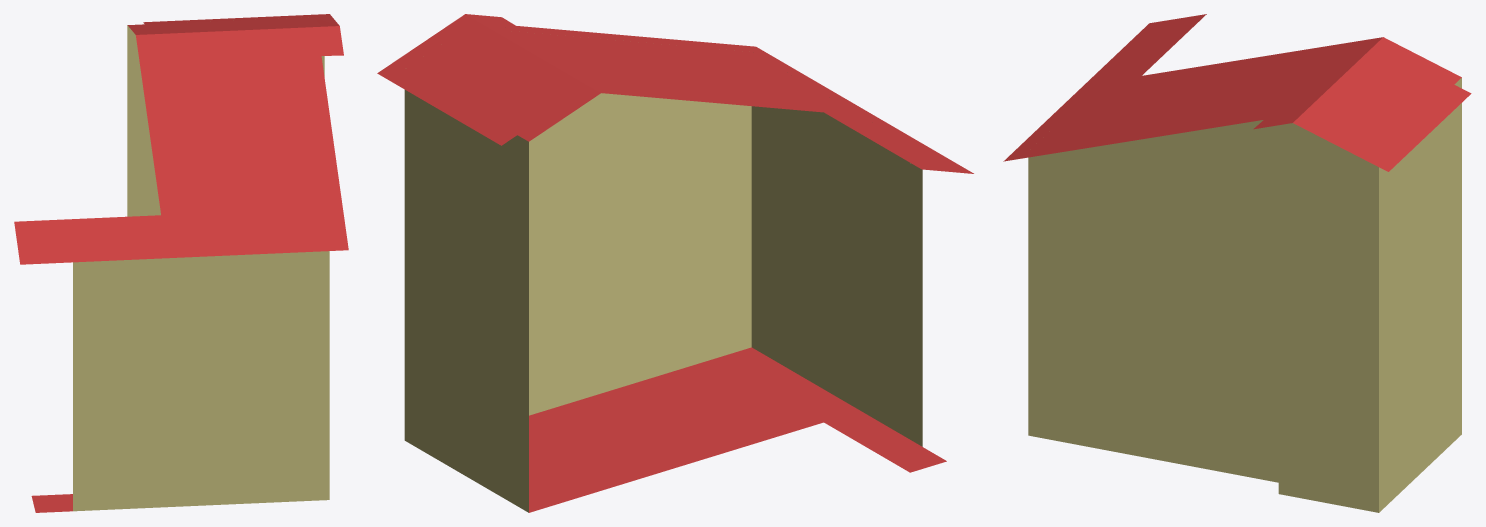
The picture shows the model from 3 angles, left to right: view 1: azimuth 30°, elevation 25°; view 2: azimuth 150°, elevation 25°; view 3: azimuth 270°, elevation 25°; orthographic projection. The views are drawn at different scales.
Size of the model in its own units: 13.88 by 12.36 by 11.14.
